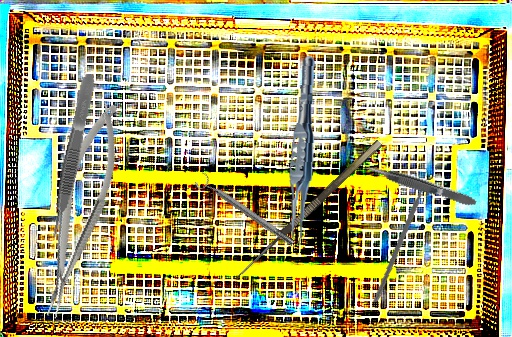Chopper: (355, 175, 458, 302)
Fixation Ring: (193, 170, 298, 252)
Hook Surgical: (232, 139, 391, 289)
Needle Holder: (22, 96, 137, 323)
Tissue Forceps: (45, 72, 99, 239), (284, 54, 320, 250), (362, 159, 479, 211)
